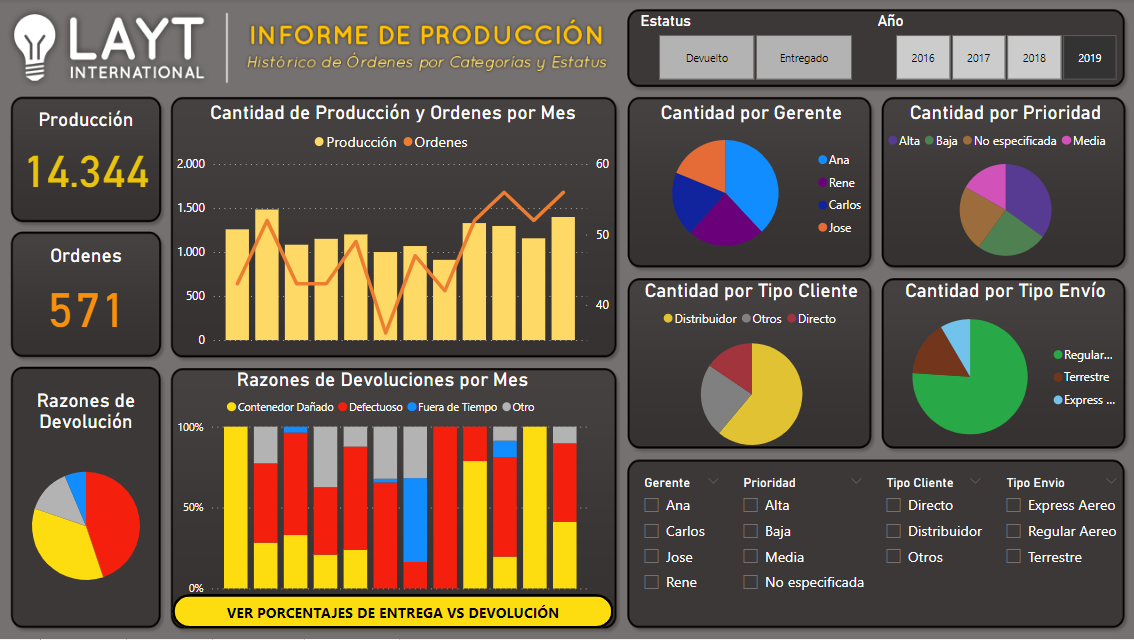

This screenshot's page, from the dashboard's own definition file:
{"tool":"powerbi","page":{"name":"Informe 2","canvas":[1280,720],"ordinal":3},"visuals":[{"type":"card","title":"Producción","fields":{"Values":["Sum(TablaTransacciones.Cantidad)"]},"box":[15.8,122.6,162,105.8],"z":0},{"type":"slicer","title":"Año","fields":{"Values":["TablaTransacciones.Fecha.Variación.Jerarquía de fechas.Año"]},"box":[982.1,14.6,298.1,83.2],"z":1000},{"type":"slicer","title":"Estatus","fields":{"Values":["TablaEstatus.Estatus"]},"box":[715.5,14.6,266.6,83.2],"z":2000},{"type":"card","title":"Ordenes","fields":{"Values":["CountNonNull(TablaTransacciones.Cantidad)"]},"box":[15.8,275.6,162,111.4],"z":3000},{"type":"lineStackedColumnComboChart","title":"Cantidad de Producción y Ordenes por Mes","fields":{"Category":["TablaTransacciones.Fecha.Variación.Jerarquía de fechas.Mes"],"Y":["Sum(TablaTransacciones.Cantidad)"],"Y2":["CountNonNull(TablaTransacciones.Cantidad)"]},"box":[193.5,114.8,497.2,283.5],"z":4000},{"type":"hundredPercentStackedColumnChart","title":"Razones de Devoluciones por Mes","fields":{"Category":["TablaTransacciones.Fecha.Variación.Jerarquía de fechas.Año","TablaTransacciones.Fecha.Variación.Jerarquía de fechas.Mes"],"Y":["Sum(TablaTransacciones.Cantidad)"],"Series":["TablaEstatus.Razon"]},"box":[193.5,415.1,473.6,262.1],"z":5000},{"type":"pieChart","title":"Cantidad por Gerente","fields":{"Category":["TablaTransacciones.Gerente"],"Y":["Sum(TablaTransacciones.Cantidad)"]},"box":[707.6,114.8,275.6,183.4],"z":6000},{"type":"pieChart","title":"Cantidad por Tipo Cliente","fields":{"Y":["Sum(TablaTransacciones.Cantidad)"],"Category":["TablaTransacciones.Tipo Cliente"]},"box":[707.6,315,275.6,205.9],"z":7000},{"type":"pieChart","title":"Cantidad por Prioridad","fields":{"Y":["Sum(TablaTransacciones.Cantidad)"],"Category":["TablaTransacciones.Prioridad"]},"box":[993.4,114.8,275.6,192.4],"z":8000},{"type":"pieChart","title":"Cantidad por Tipo Envío","fields":{"Y":["Sum(TablaTransacciones.Cantidad)"],"Category":["TablaTransacciones.Tipo Envio"]},"box":[993.4,315,275.6,195.8],"z":9000},{"type":"slicer","fields":{"Values":["TablaTransacciones.Gerente"]},"box":[712.1,531,109.1,156.4],"z":10000},{"type":"slicer","fields":{"Values":["TablaTransacciones.Prioridad"]},"box":[823.5,531,158.6,156.4],"z":11000},{"type":"slicer","fields":{"Values":["TablaTransacciones.Tipo Cliente"]},"box":[984.4,531,131.6,156.4],"z":12000},{"type":"slicer","fields":{"Values":["TablaTransacciones.Tipo Envio"]},"box":[1119.4,531,149.6,156.4],"z":13000},{"type":"pieChart","title":"Razones de Devolución","fields":{"Category":["TablaEstatus.Razon"],"Y":["Sum(TablaTransacciones.Cantidad)"]},"box":[15.8,438.8,162,259.9],"z":14000},{"type":"actionButton","box":[193.5,669.4,497.2,39.4],"z":14003}]}

Visuals, with their boxes in screenshot pixels (x1, y1, x2, y2), scaled from the page's 1280x720 canvas onto the 1134x640 screenshot:
"Producción" card: 14, 109, 158, 203
"Año" slicer: 870, 13, 1133, 87
"Estatus" slicer: 634, 13, 870, 87
"Ordenes" card: 14, 245, 158, 344
"Cantidad de Producción y Ordenes por Mes" lineStackedColumnComboChart: 171, 102, 612, 354
"Razones de Devoluciones por Mes" hundredPercentStackedColumnChart: 171, 369, 591, 602
"Cantidad por Gerente" pieChart: 627, 102, 871, 265
"Cantidad por Tipo Cliente" pieChart: 627, 280, 871, 463
"Cantidad por Prioridad" pieChart: 880, 102, 1124, 273
"Cantidad por Tipo Envío" pieChart: 880, 280, 1124, 454
slicer - TablaTransacciones.Gerente: 631, 472, 728, 611
slicer - TablaTransacciones.Prioridad: 730, 472, 870, 611
slicer - TablaTransacciones.Tipo Cliente: 872, 472, 989, 611
slicer - TablaTransacciones.Tipo Envio: 992, 472, 1124, 611
"Razones de Devolución" pieChart: 14, 390, 158, 621
actionButton: 171, 595, 612, 630
